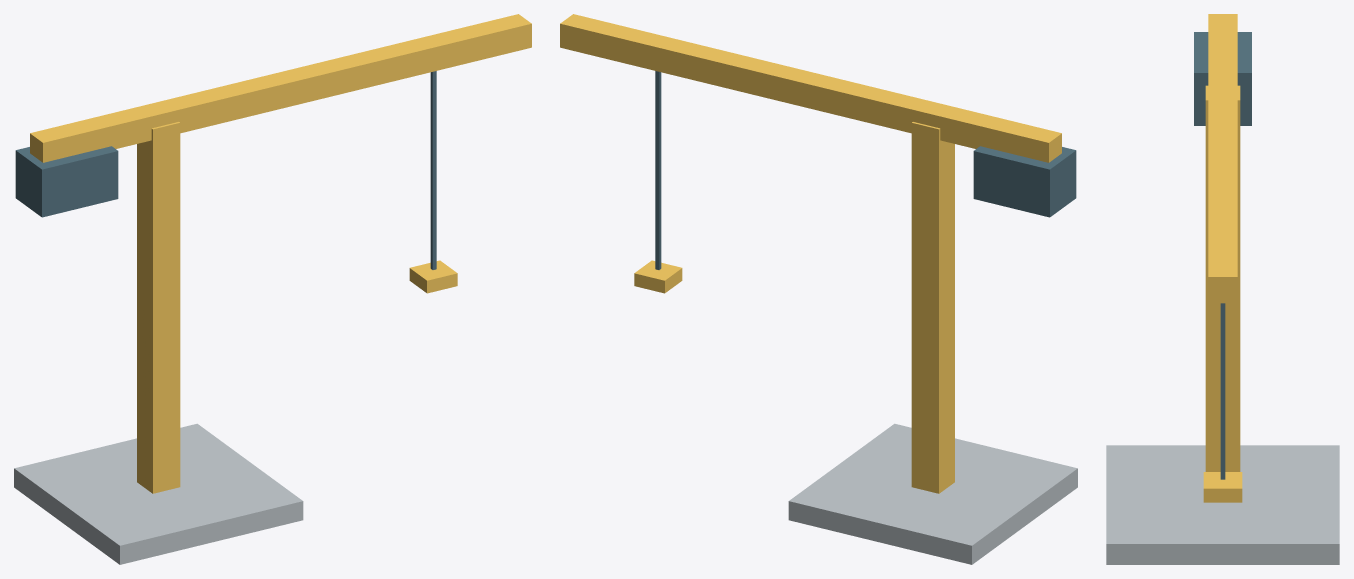
File: demo-crane.glb
3 renders of one model, left to right at view 1: azimuth 30°, elevation 25°; view 2: azimuth 150°, elevation 25°; view 3: azimuth 270°, elevation 25°, orthographic. The views are drawn at different scales.
Bounding box in the file's own units: 32.5 × 24.75 × 12.
